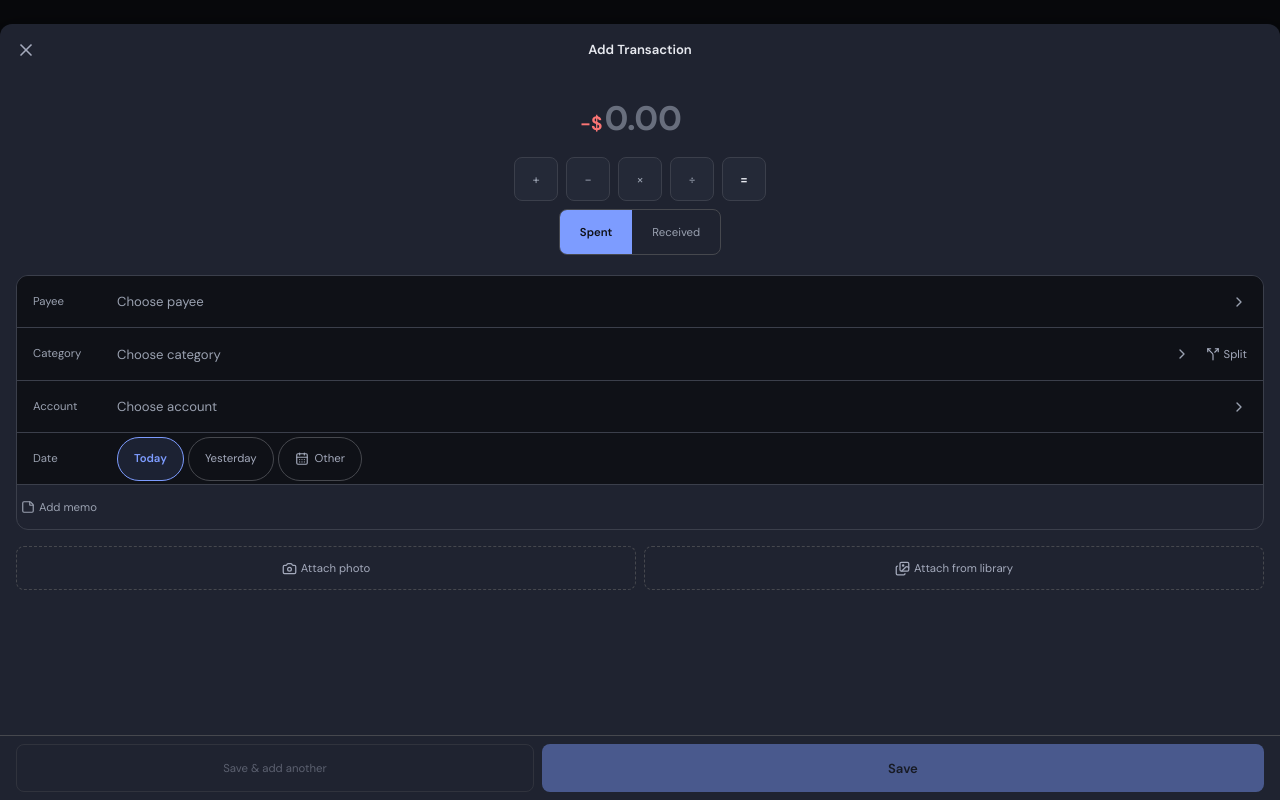
Test: the legs must add up › says "over" rather than a negative remainder
The image size is (1280, 800).
Click the text "Choose account".
click(167, 406)  # box x1=117 y1=398 x2=217 y2=415
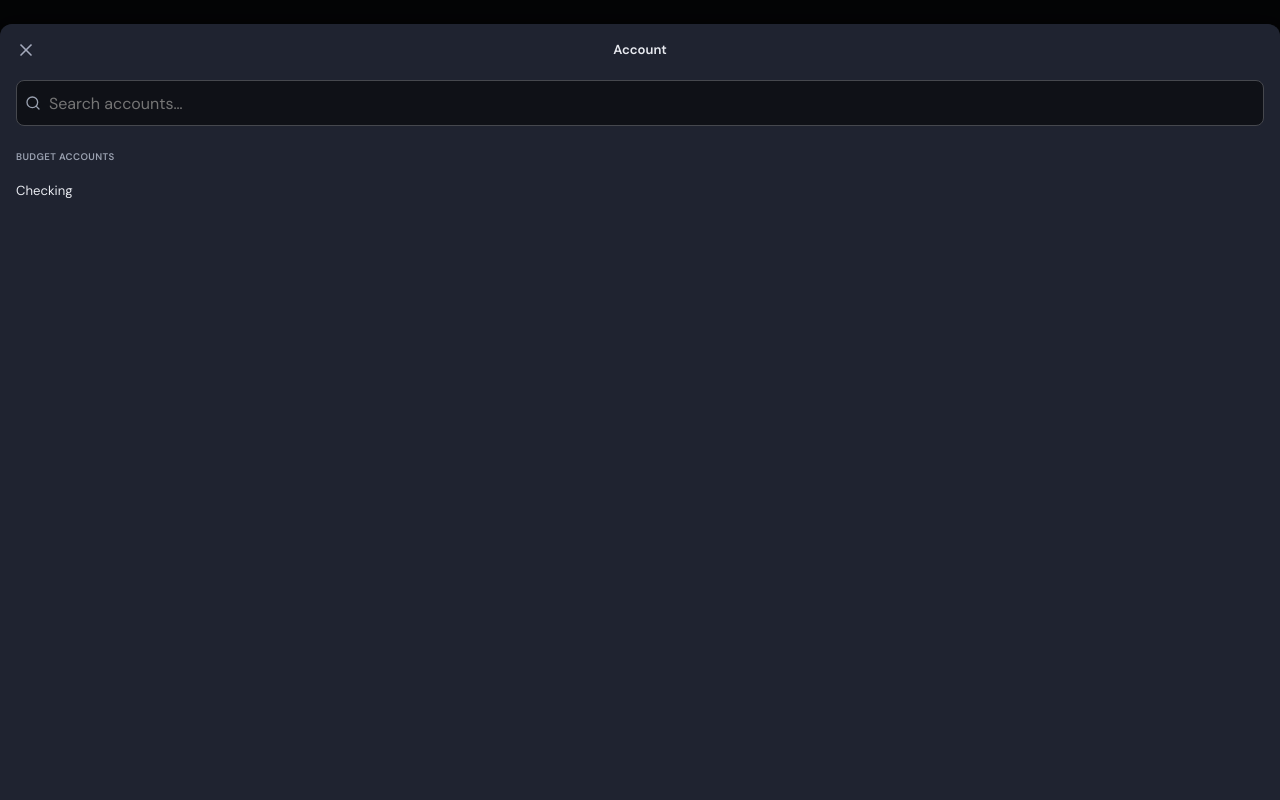
Click the button "Checking".
click(44, 190)  # box x1=8 y1=168 x2=1272 y2=212
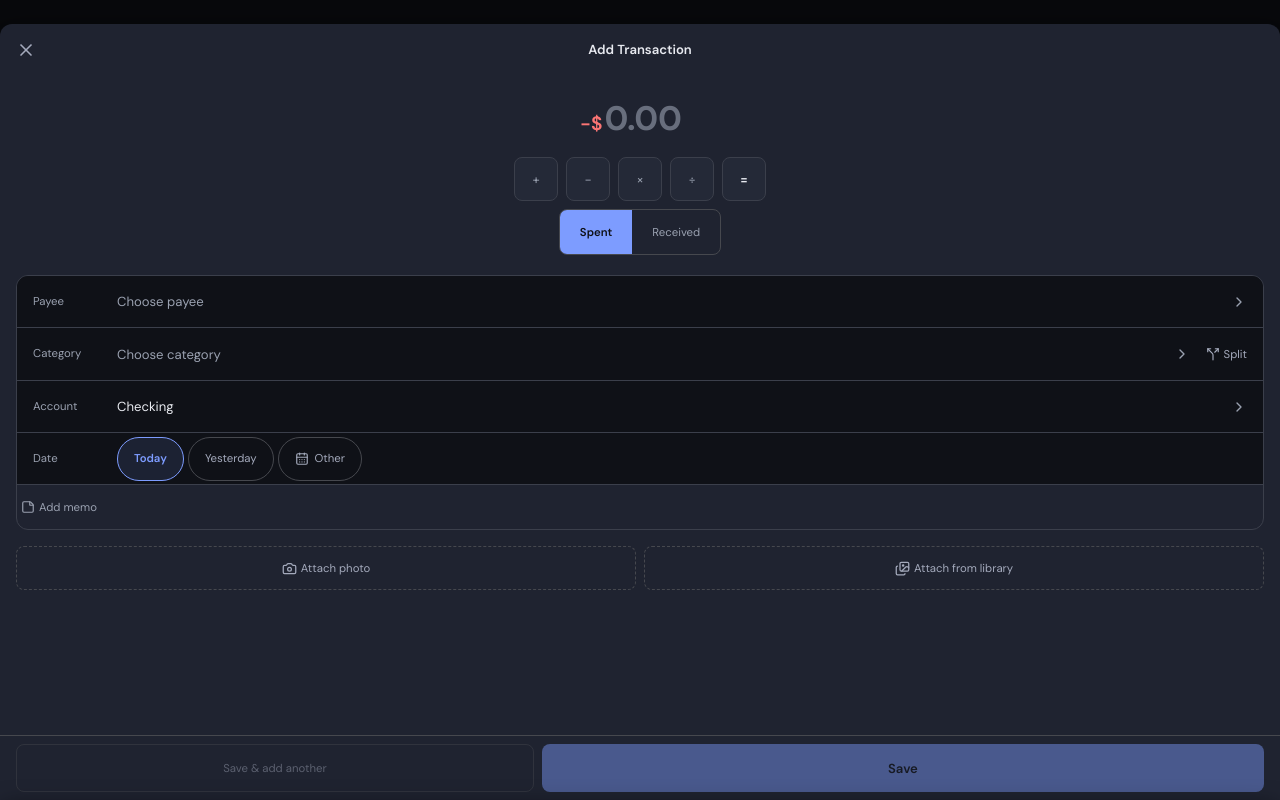
Type "10.00" into the field named "Amount".
click(652, 118); type("10.00")  # box x1=604 y1=96 x2=700 y2=141
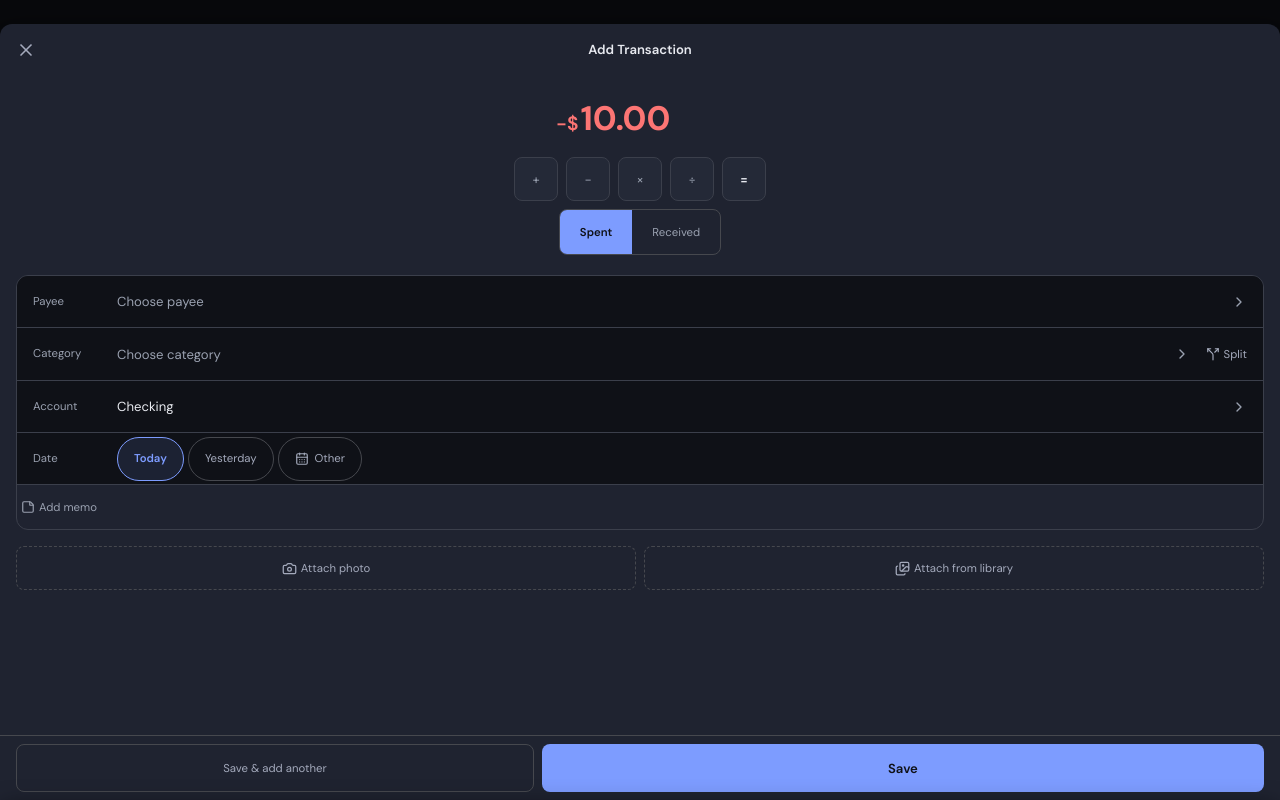
Click the button titled "Split this across categories".
click(1226, 354)  # box x1=1198 y1=332 x2=1255 y2=376
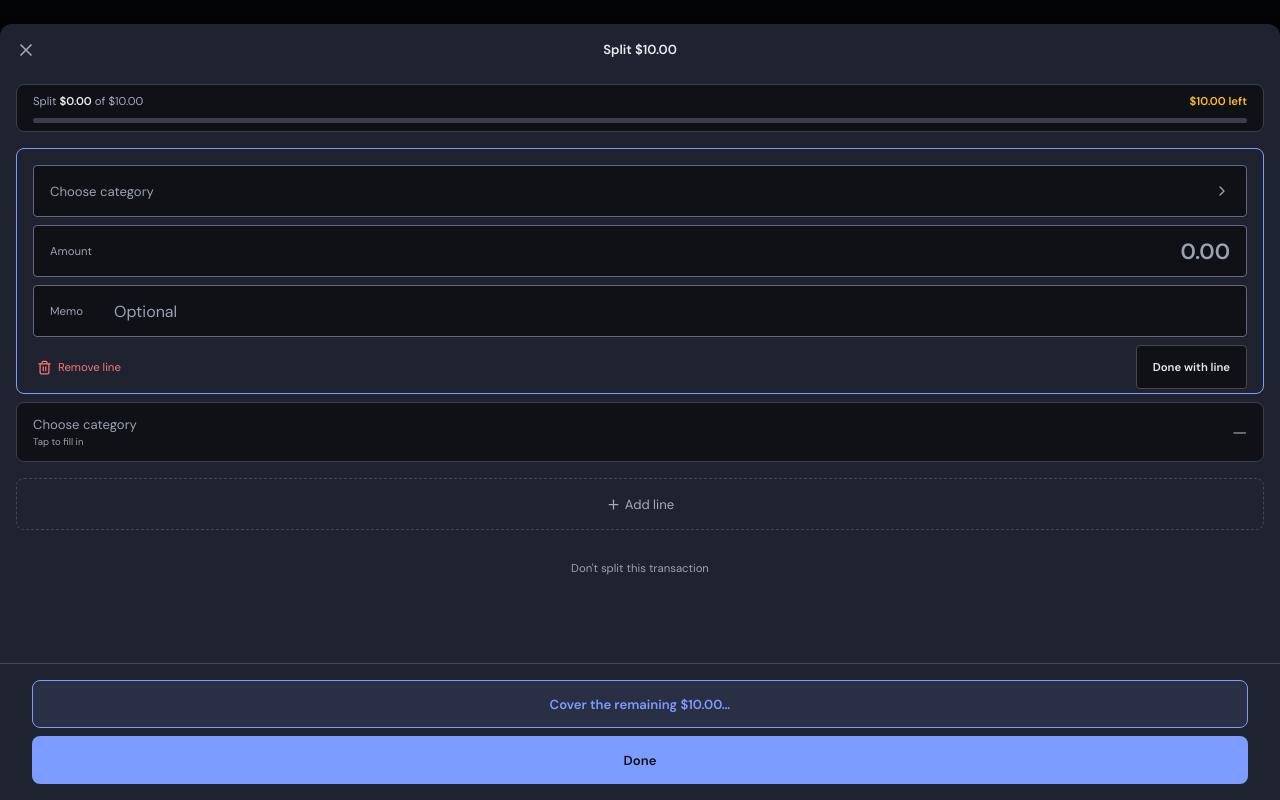
Type "12.00" into the field named "Split 1 amount".
click(672, 251); type("12.00")  # box x1=114 y1=227 x2=1230 y2=275
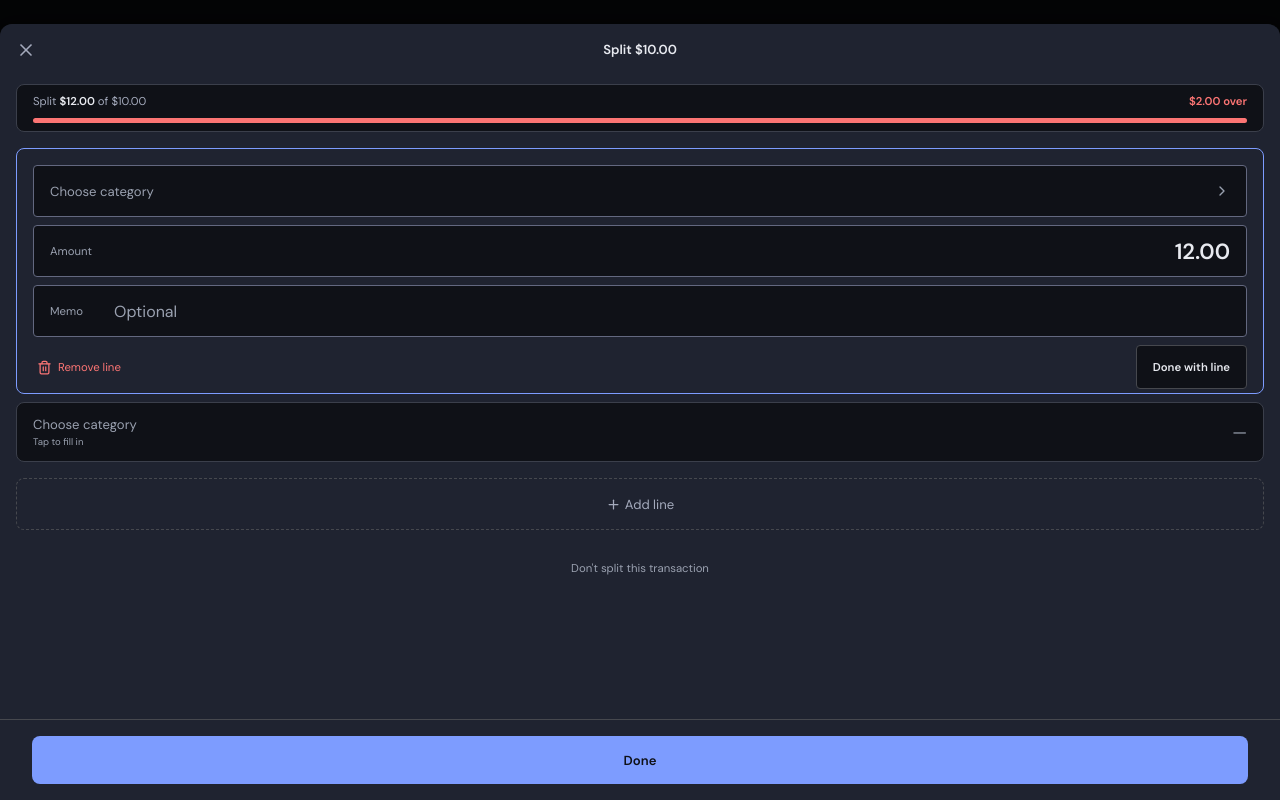
Check: the message shows "over", box x1=1189 y1=94 x2=1247 y2=109
